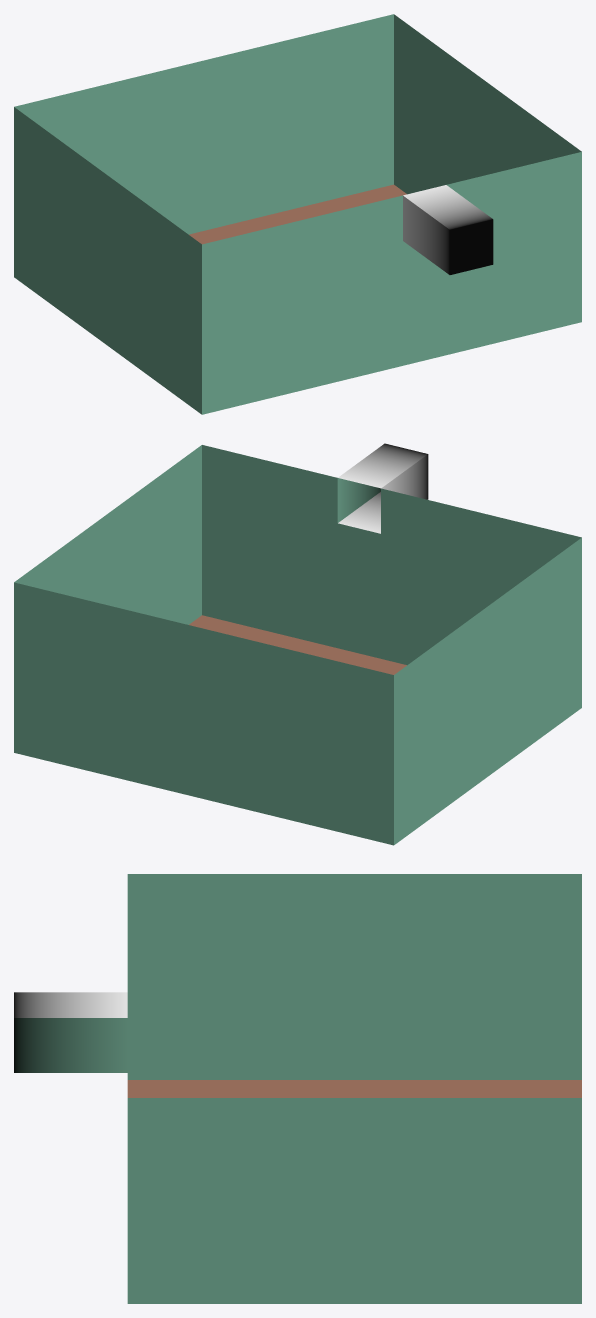
Rendered from SM_geo_testingRoom.fbx.
3 renders of one model, top to bottom at view 1: azimuth 30°, elevation 25°; view 2: azimuth 150°, elevation 25°; view 3: azimuth 270°, elevation 25°, orthographic. The views are drawn at different scales.
Visible parts, largest first — view 1: TinyNothingRoom; view 2: TinyNothingRoom; view 3: TinyNothingRoom.
Part boxes in pixels (<box>): TinyNothingRoom: <box>14,14,581,414</box>; TinyNothingRoom: <box>14,443,581,845</box>; TinyNothingRoom: <box>14,874,581,1303</box>.
Size of the model in its own units: 700 by 300 by 750.
